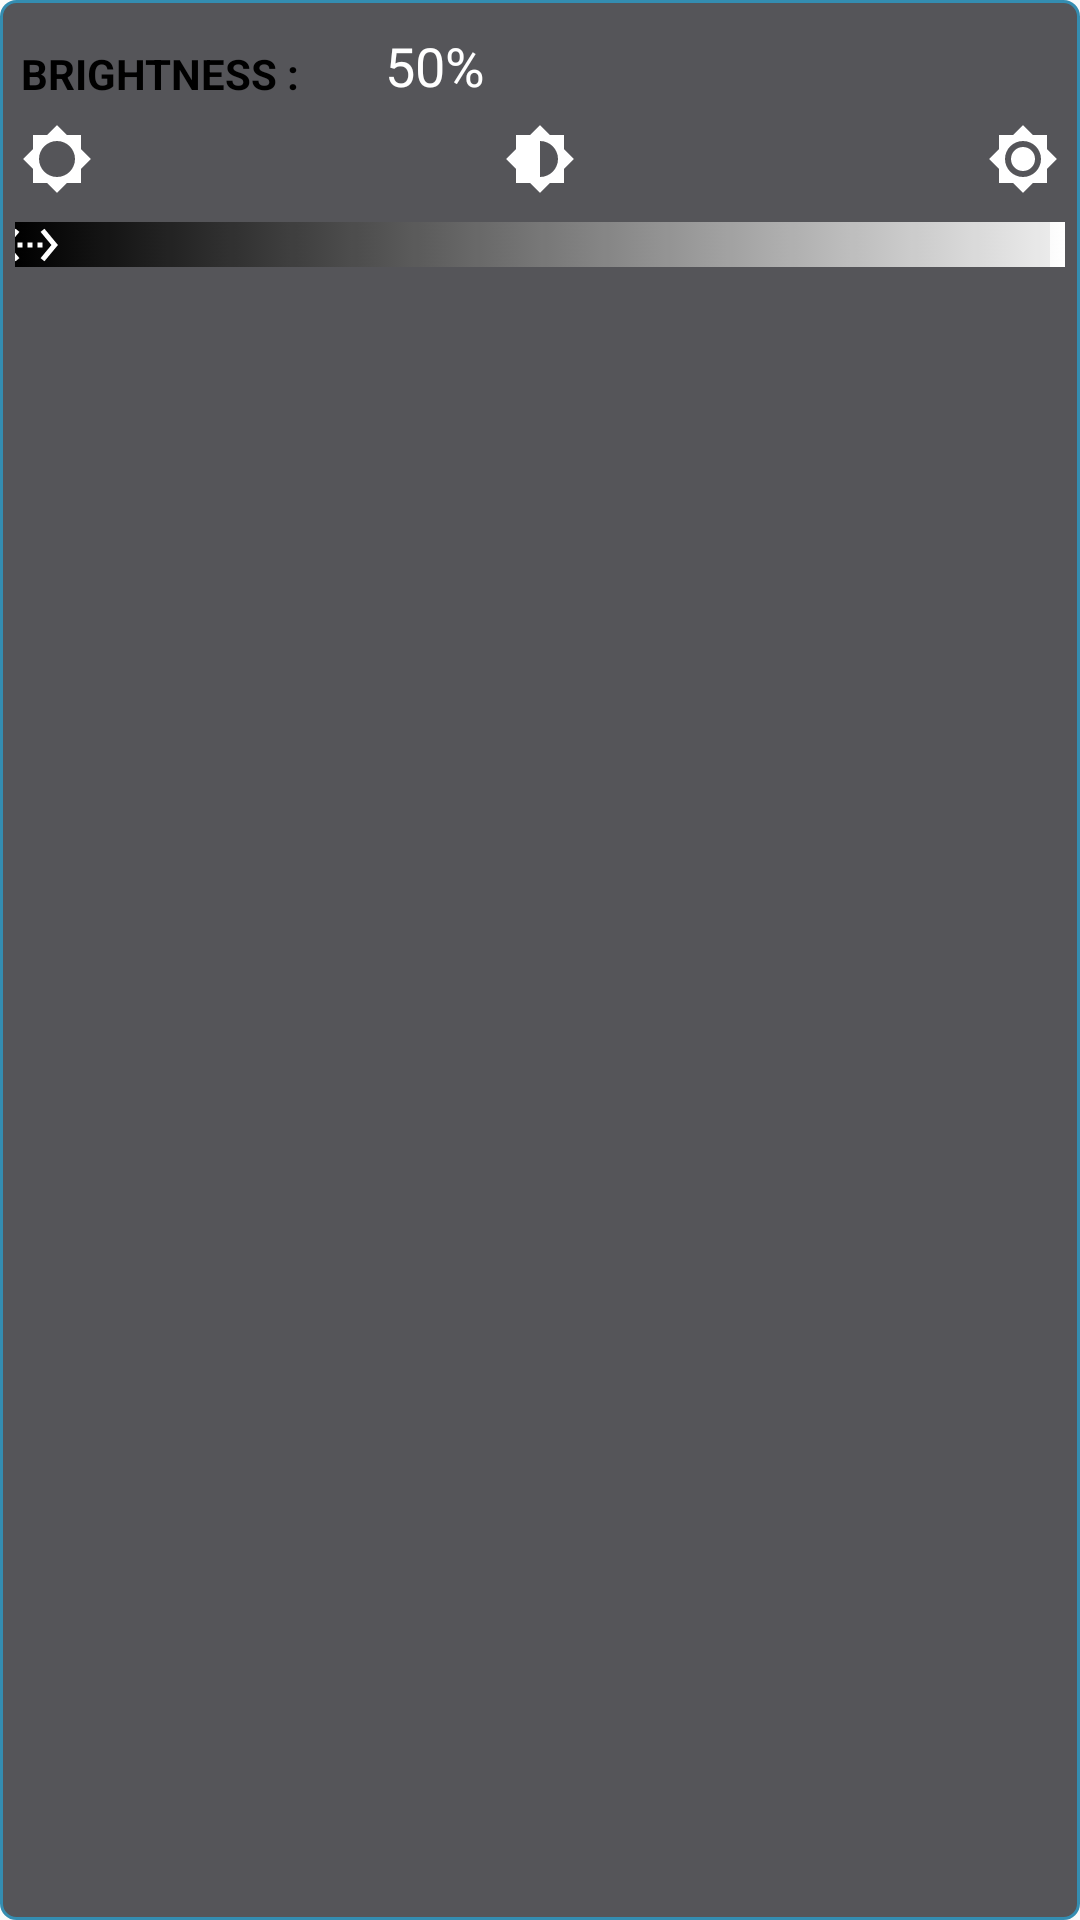

Point at icon controls on the screen. Image size 1080 × 1920, points as (x,y).
brightness: (1023,159)
brightness medium: (540,159)
